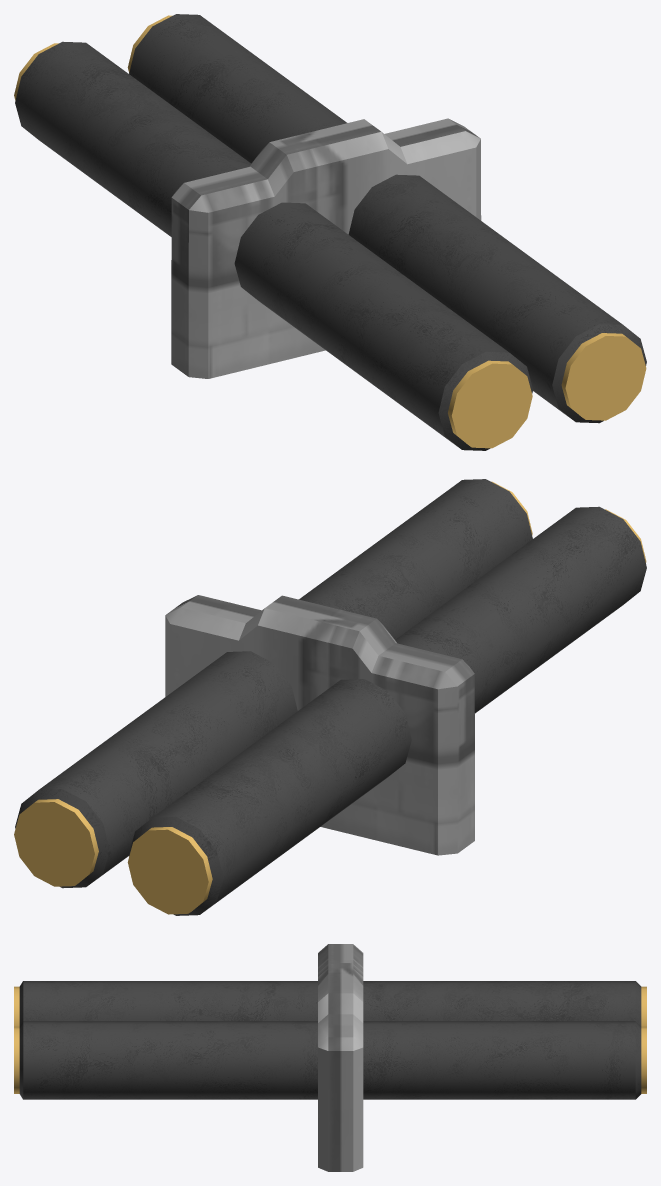
The model's file is 2_pipes.fbx.
3 renders of one model, top to bottom at view 1: azimuth 30°, elevation 25°; view 2: azimuth 150°, elevation 25°; view 3: azimuth 270°, elevation 25°, orthographic. The views are drawn at different scales.
Parts seen in each view (by area): view 1: 2_pipes; view 2: 2_pipes; view 3: 2_pipes.
Boxes of the visible parts, x1,y1,x2,y2 form: 2_pipes: (14,14,646,450); 2_pipes: (14,479,646,915); 2_pipes: (14,944,646,1171).
Bounding box in the file's own units: 154 × 100 × 400.
